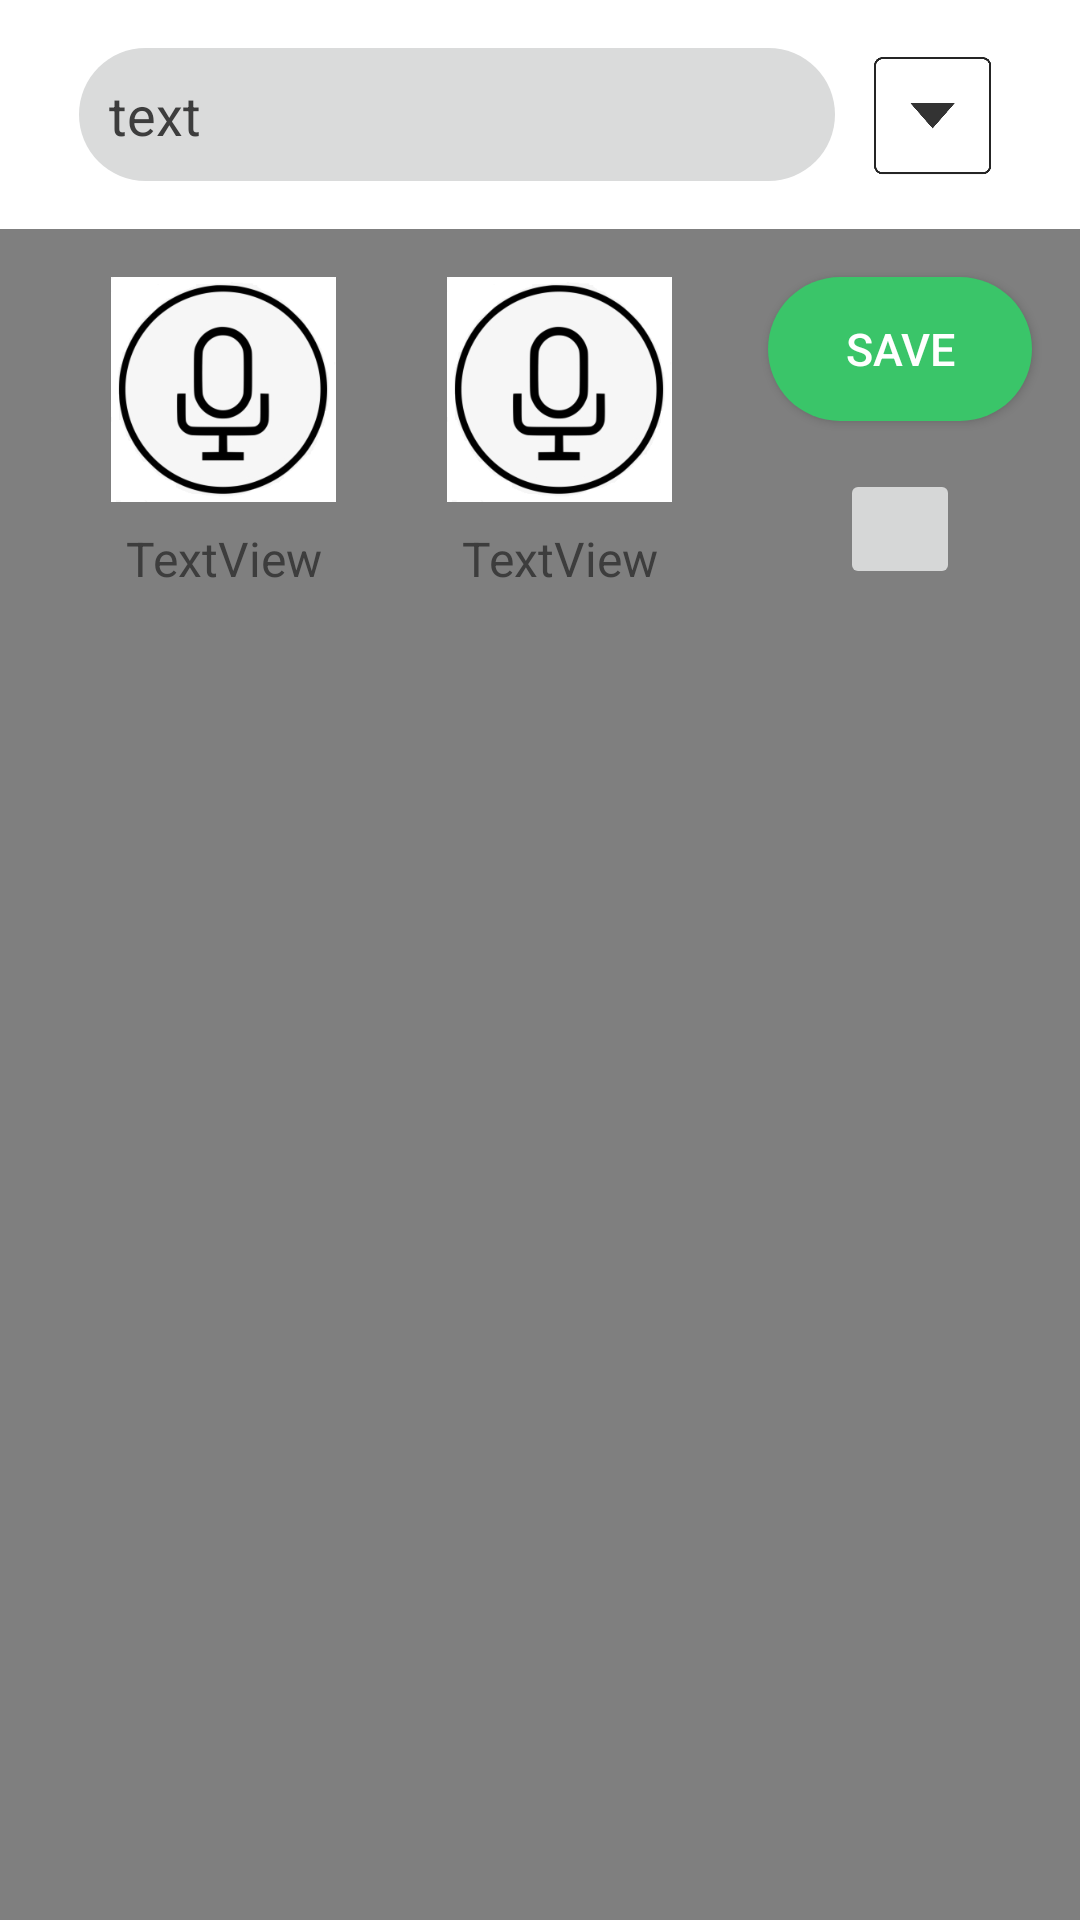

Icon click points for this 1080w x 1920h phone screenshot, format (x,y):
before record not clicked: (223,389), (559,389)
down arrow: (932,115)
